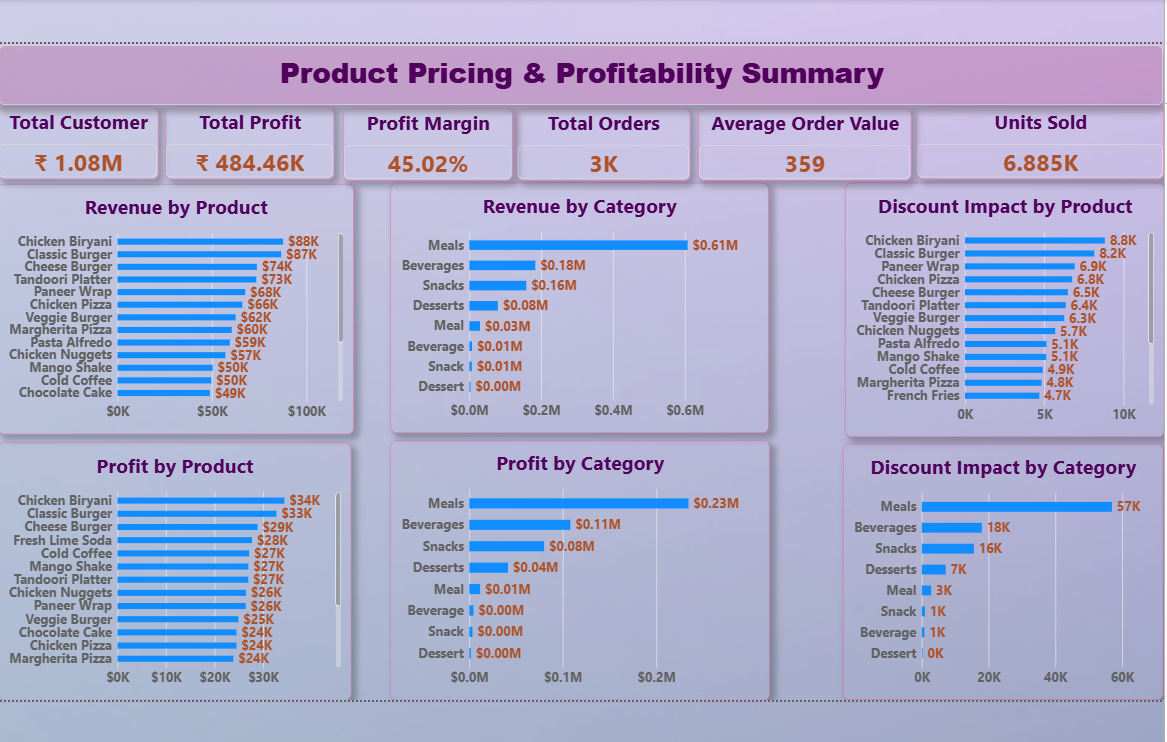

What the dashboard file says about the page in this screenshot:
{"tool":"powerbi","page":{"name":"Page 1","canvas":[1920,1080],"ordinal":0},"visuals":[{"type":"clusteredBarChart","title":"Revenue by Product","fields":{"Category":["tastybites_orders.ProductName"],"Y":["tastybites_orders.Revenue per Product"]},"box":[0,230.5,585.4,411.7],"z":0},{"type":"clusteredBarChart","title":"Revenue by Category","fields":{"Category":["tastybites_orders.Category"],"Y":["tastybites_orders.Revenue per Product"]},"box":[646.3,228.5,622,411.7],"z":1000},{"type":"clusteredBarChart","title":"Discount Impact by Product","fields":{"Category":["tastybites_orders.ProductName"],"Y":["tastybites_orders.Discount Impact"]},"box":[1395.1,227.7,524.9,418.7],"z":2000},{"type":"clusteredBarChart","title":"Profit by Product","fields":{"Category":["tastybites_orders.ProductName"],"Y":["tastybites_orders.Total Profit"]},"box":[0,656.6,581.7,424],"z":3000},{"type":"clusteredBarChart","title":"Profit by Category","fields":{"Category":["tastybites_orders.Category"],"Y":["tastybites_orders.Total Profit"]},"box":[646.3,651.9,623.7,428.1],"z":4000},{"type":"clusteredBarChart","title":"Discount Impact by Category","fields":{"Category":["tastybites_orders.Category"],"Y":["tastybites_orders.Discount Impact"]},"box":[1391.4,658.9,526.9,421.1],"z":5000},{"type":"textbox","title":"Product Pricing & Profitability Summary","box":[2.1,2.1,1916.3,98.8],"z":6000},{"type":"cardVisual","title":"Total Customer","fields":{"Data":["tastybites_orders.Revenue per Product"]},"box":[0,105,264.3,117.3],"z":6001},{"type":"cardVisual","title":"Total Profit","fields":{"Data":["tastybites_orders.Total Profit"]},"box":[275.8,105,277.5,117.3],"z":6002},{"type":"cardVisual","title":"Profit Margin","fields":{"Data":["tastybites_orders.Profit Margin %"]},"box":[568.1,107,279.5,117.3],"z":6003},{"type":"cardVisual","title":"Total Orders","fields":{"Data":["Count(tastybites_orders.OrderID)"]},"box":[854.2,107,285.7,117.3],"z":6004},{"type":"cardVisual","title":"Average Order Value","fields":{"Data":["tastybites_orders.Average Order Value"]},"box":[1153.5,106.2,351.6,117.3],"z":6005},{"type":"cardVisual","title":"Units Sold","fields":{"Data":["tastybites_orders.Units Sold"]},"box":[1512.4,105.4,407.5,117.3],"z":6006}]}

Visuals, with their boxes on the page's 1920x1080 design canvas (x1, y1, x2, y2). These are canvas units, not pixel positions in the 1167x742 screenshot, which may show the page scaled, cropped or inside an application window:
"Revenue by Product" clusteredBarChart: {"x1": 0, "y1": 230, "x2": 585, "y2": 642}
"Revenue by Category" clusteredBarChart: {"x1": 646, "y1": 228, "x2": 1268, "y2": 640}
"Discount Impact by Product" clusteredBarChart: {"x1": 1395, "y1": 228, "x2": 1920, "y2": 646}
"Profit by Product" clusteredBarChart: {"x1": 0, "y1": 657, "x2": 582, "y2": 1081}
"Profit by Category" clusteredBarChart: {"x1": 646, "y1": 652, "x2": 1270, "y2": 1080}
"Discount Impact by Category" clusteredBarChart: {"x1": 1391, "y1": 659, "x2": 1918, "y2": 1080}
"Product Pricing & Profitability Summary" textbox: {"x1": 2, "y1": 2, "x2": 1918, "y2": 101}
"Total Customer" cardVisual: {"x1": 0, "y1": 105, "x2": 264, "y2": 222}
"Total Profit" cardVisual: {"x1": 276, "y1": 105, "x2": 553, "y2": 222}
"Profit Margin" cardVisual: {"x1": 568, "y1": 107, "x2": 848, "y2": 224}
"Total Orders" cardVisual: {"x1": 854, "y1": 107, "x2": 1140, "y2": 224}
"Average Order Value" cardVisual: {"x1": 1154, "y1": 106, "x2": 1505, "y2": 224}
"Units Sold" cardVisual: {"x1": 1512, "y1": 105, "x2": 1920, "y2": 223}
